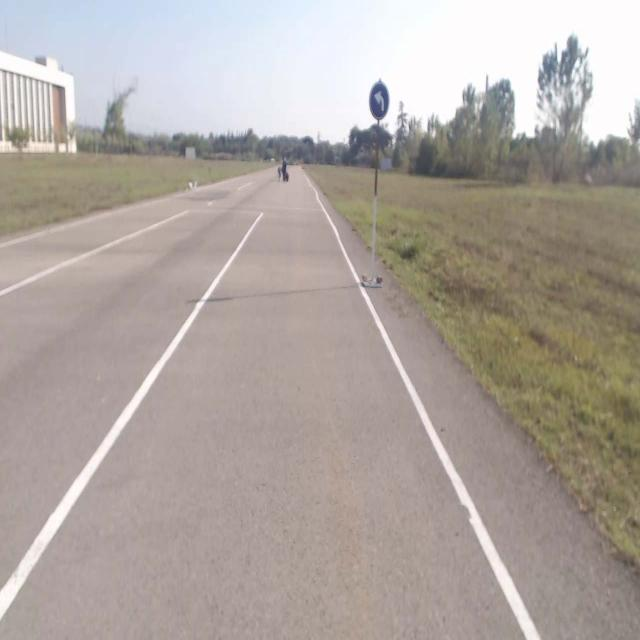sol: (371, 83, 388, 118)
